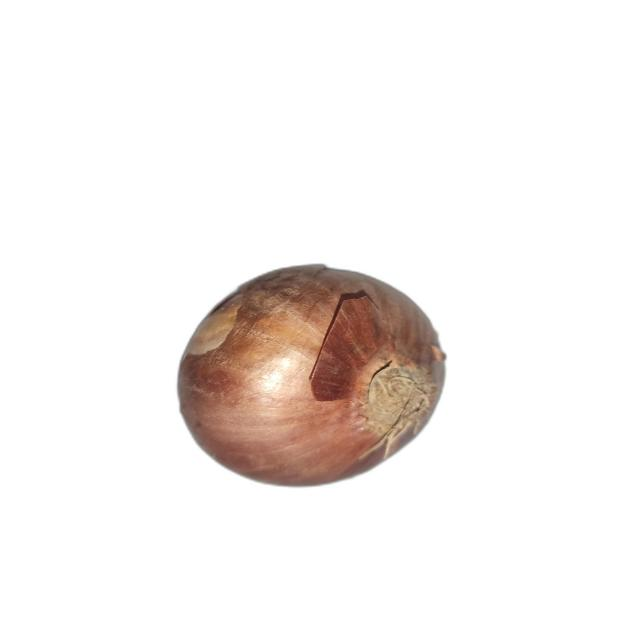onion: (174, 261, 449, 488)
